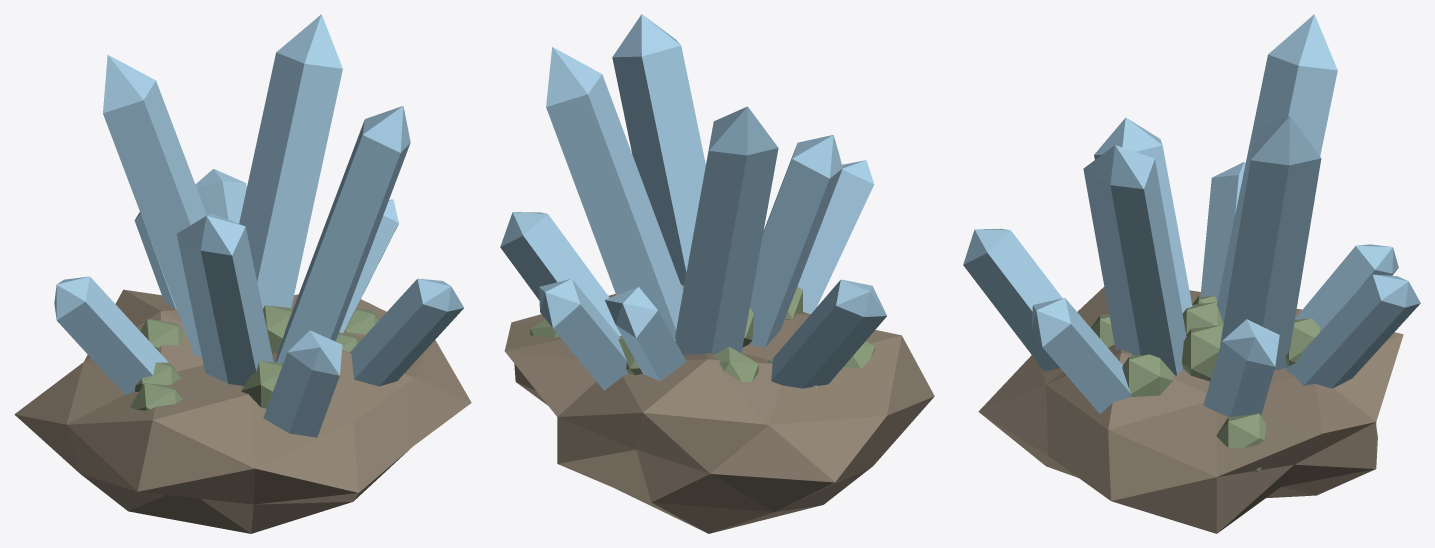
The model's file is Mossy Gem Unharvested.fbx.
3 views of the same model, side by side, from view 1: azimuth 30°, elevation 25°; view 2: azimuth 150°, elevation 25°; view 3: azimuth 270°, elevation 25° (orthographic). The views are drawn at different scales.
Parts seen in each view (by area): view 1: pCylinder14; view 2: pCylinder14; view 3: pCylinder14.
Boxes of the visible parts, left/top/right/bottom form: pCylinder14: left=14, top=14, right=471, bottom=533; pCylinder14: left=500, top=14, right=934, bottom=533; pCylinder14: left=963, top=14, right=1420, bottom=533.
Bounding box in the file's own units: 0.7078 × 0.7685 × 0.7319.
